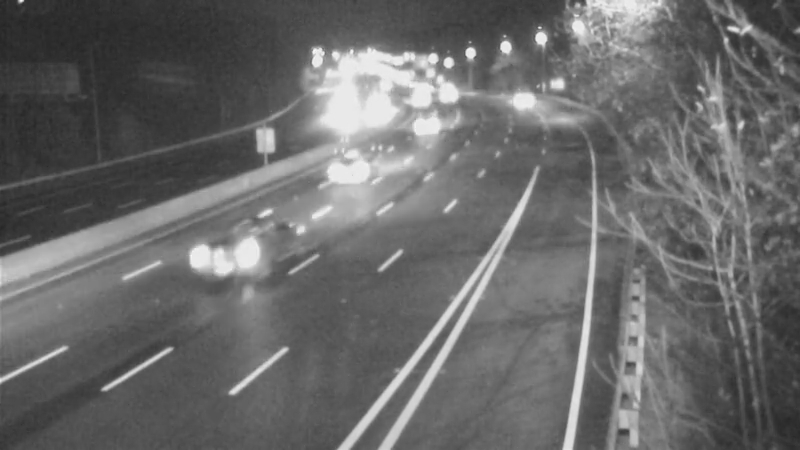vehicle: (312, 131, 392, 211), (191, 221, 271, 301), (416, 68, 466, 118), (492, 71, 542, 121), (387, 72, 437, 122), (406, 97, 456, 147), (349, 84, 399, 134), (319, 88, 369, 138)
